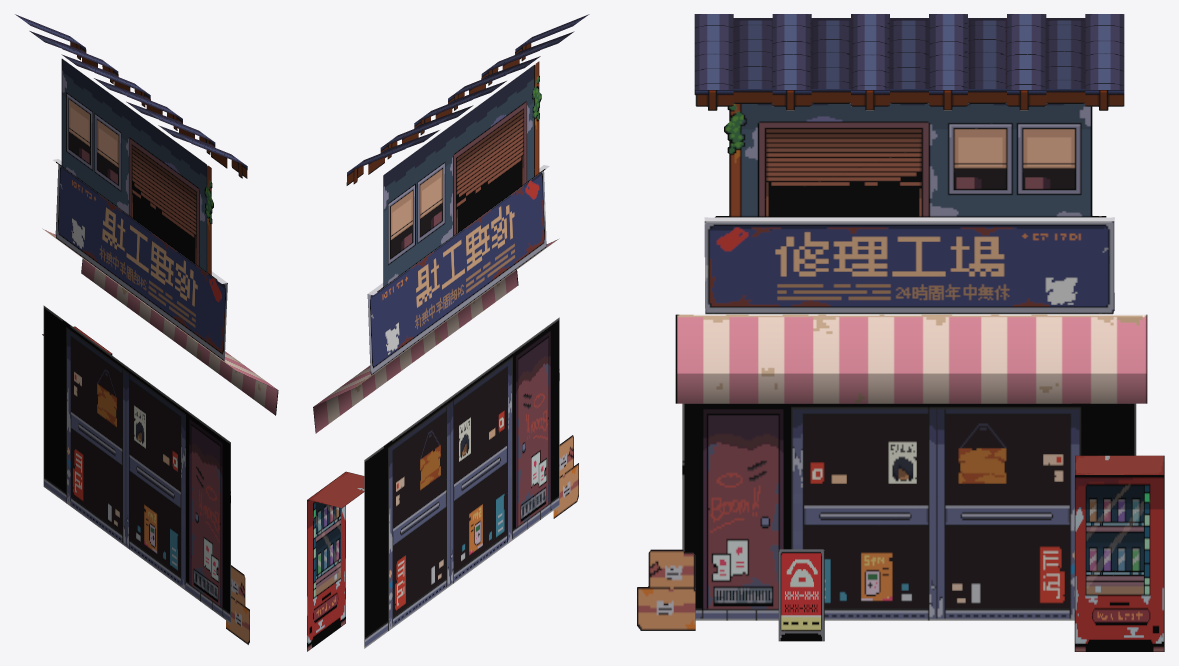
File: RepairShop.fbx
3 views of the same model, side by side, from view 1: azimuth 30°, elevation 25°; view 2: azimuth 150°, elevation 25°; view 3: azimuth 270°, elevation 25° (orthographic). The views are drawn at different scales.
Parts seen in each view (by area): view 1: ElectronicShop; view 2: ElectronicShop; view 3: ElectronicShop.
Boxes of the visible parts, x1=… form: ElectronicShop: x1=15, y1=14, x2=278, y2=644; ElectronicShop: x1=307, y1=14, x2=589, y2=651; ElectronicShop: x1=637, y1=14, x2=1164, y2=651.
Bounding box in the file's own units: 105 × 611 × 507.
1 material, 1 textured.
